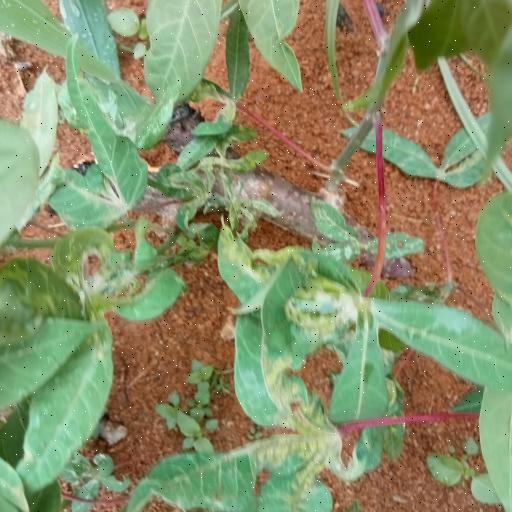Cassava_Mosaic: (220, 223, 362, 512), (0, 228, 157, 350)
